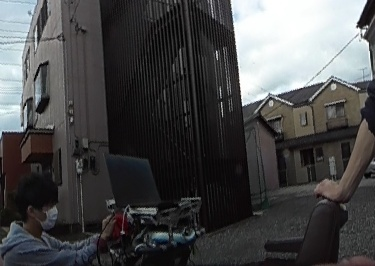person: (1, 174, 120, 266)
